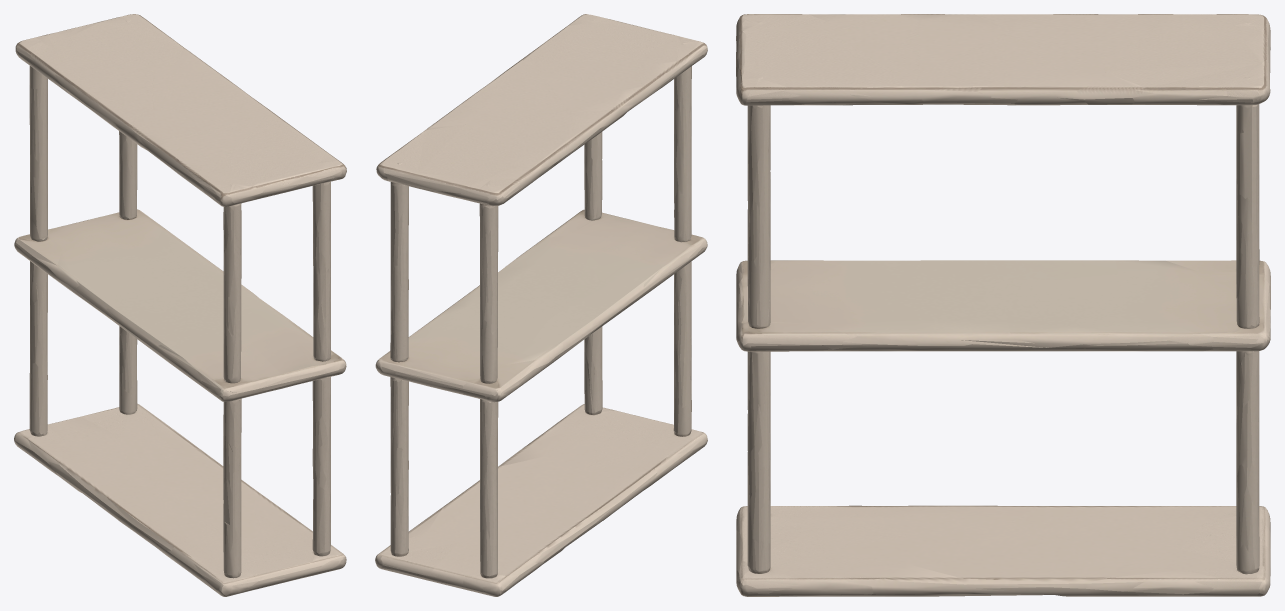
File: raw_shelf_etagere_3tier.glb
The picture shows the model from 3 angles, left to right: view 1: azimuth 30°, elevation 25°; view 2: azimuth 150°, elevation 25°; view 3: azimuth 270°, elevation 25°; orthographic projection. The views are drawn at different scales.
Bounding box in the file's own units: 0.6282 × 1.9 × 1.8.
Materials: 1 (1 with a texture image).
